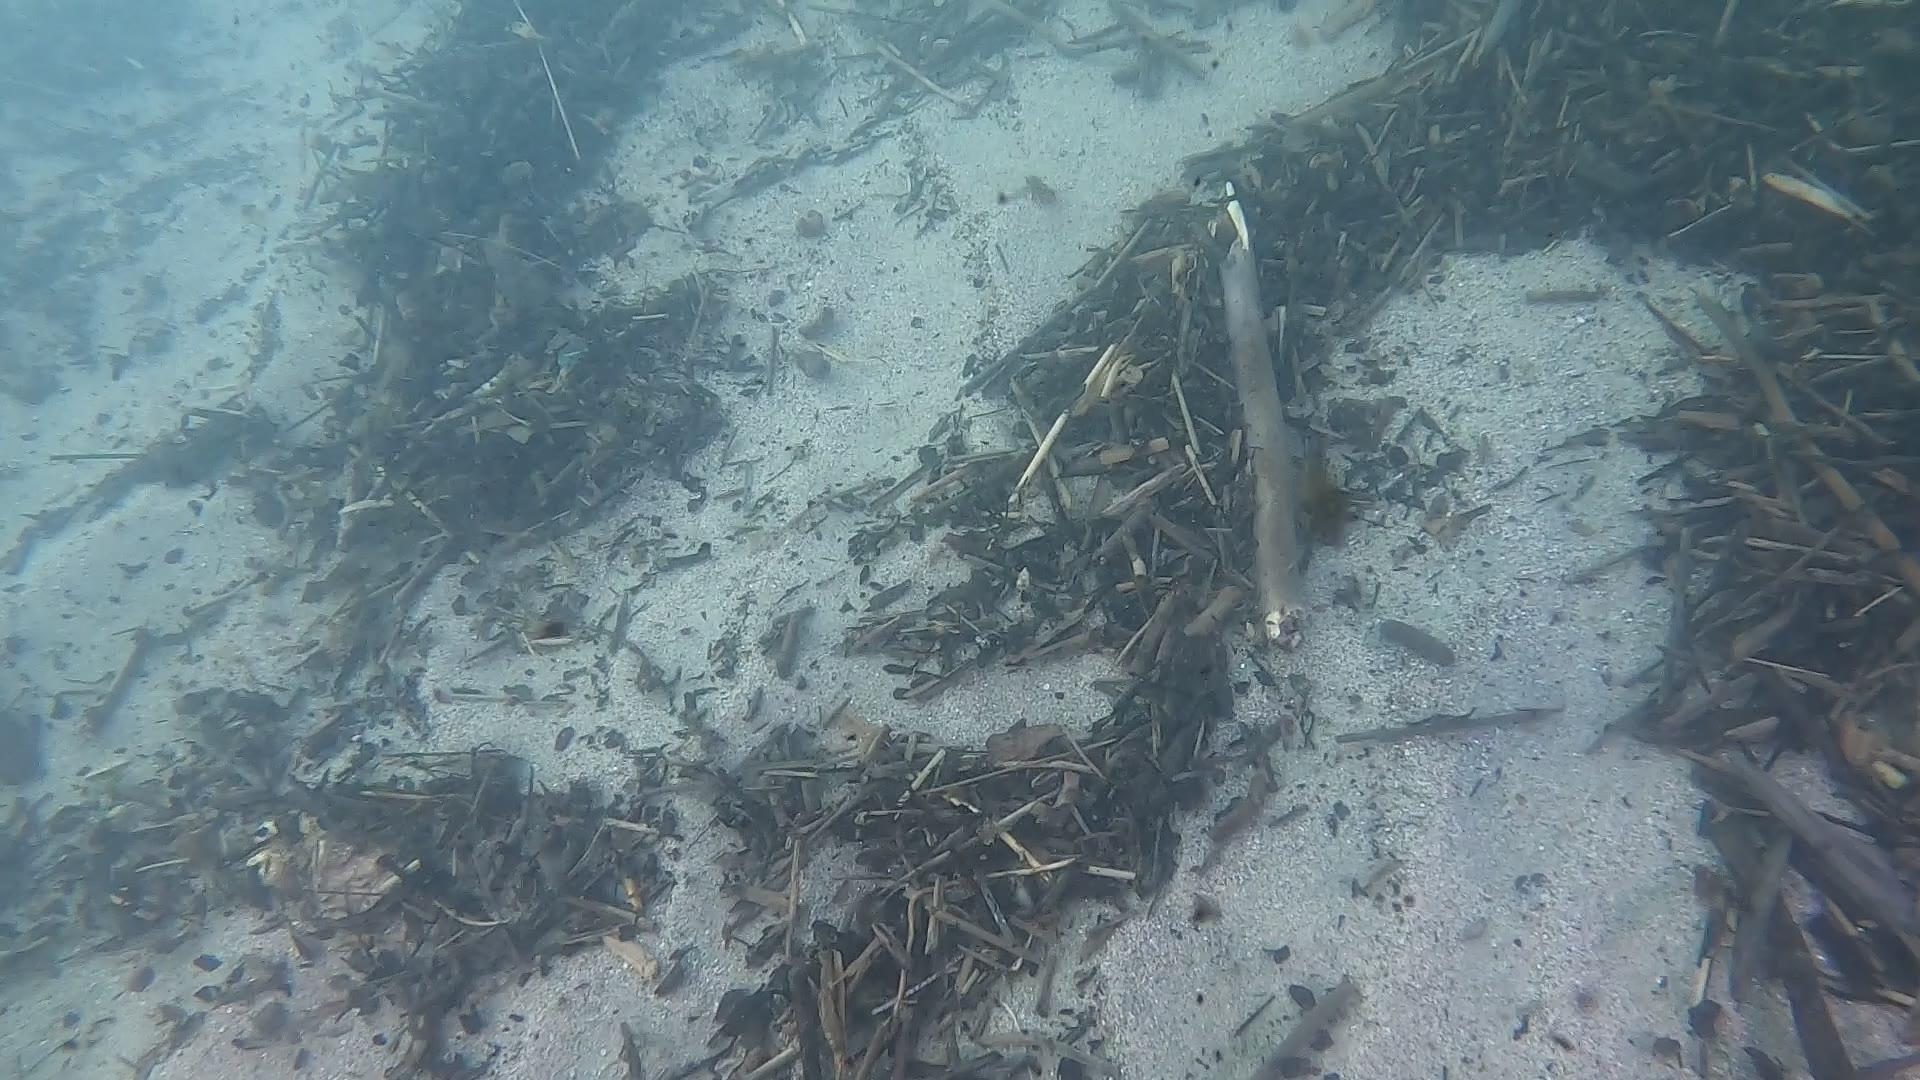wood: (1220, 236, 1311, 653)
